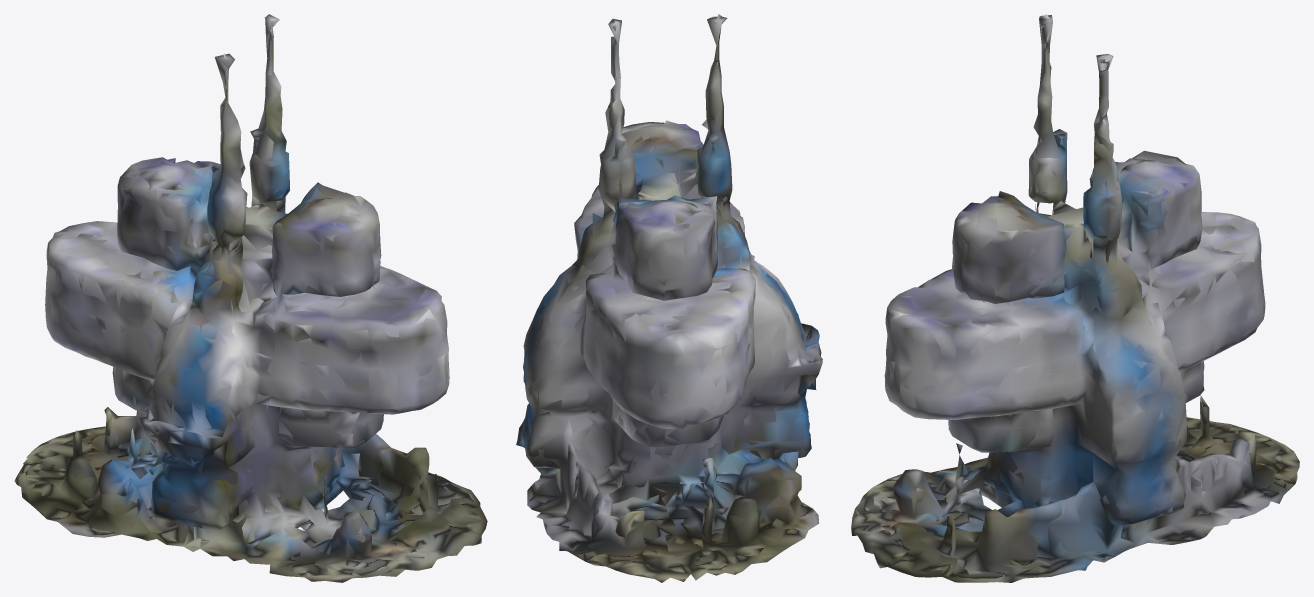
File: allied_battle_lab.glb
3 renders of one model, left to right at view 1: azimuth 30°, elevation 25°; view 2: azimuth 150°, elevation 25°; view 3: azimuth 270°, elevation 25°, orthographic.
Visible parts, largest first — view 1: allied_battle_lab; view 2: allied_battle_lab; view 3: allied_battle_lab.
Part boxes in pixels (left/top/right/bottom): allied_battle_lab: left=14, top=14, right=487, bottom=582; allied_battle_lab: left=516, top=14, right=822, bottom=582; allied_battle_lab: left=851, top=14, right=1299, bottom=582.
Size of the model in its own units: 1.23 by 1.6 by 1.38.
